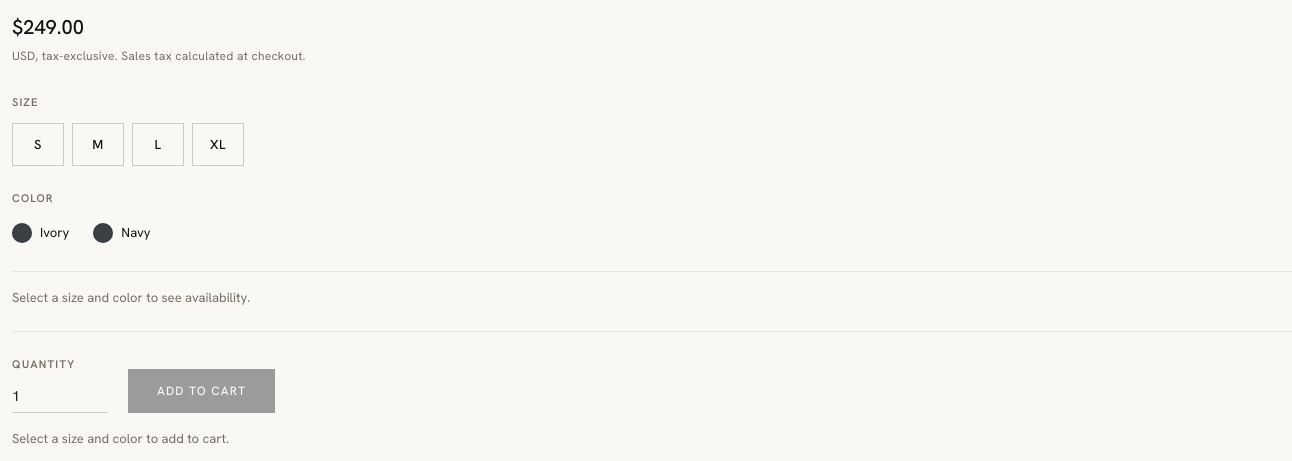
Test case: VariantSelector › uses the variant price override instead of the base price
The width and height of the screenshot is (1292, 461).
Step 1. Click the button "XL" → click(218, 144), box [192, 123, 244, 166]
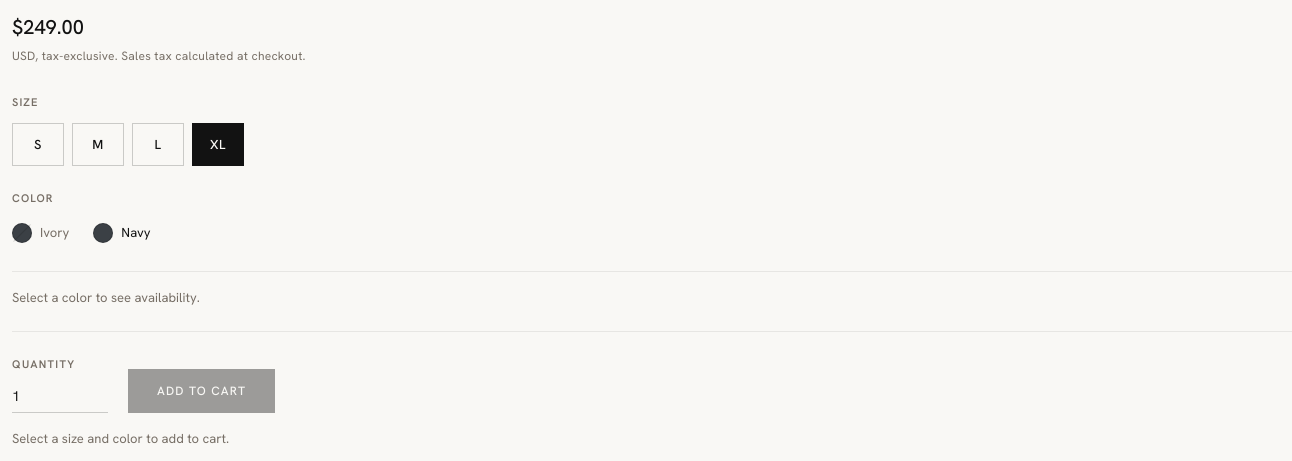
Step 2. Click the button "Navy" → click(122, 233), box [93, 219, 151, 247]
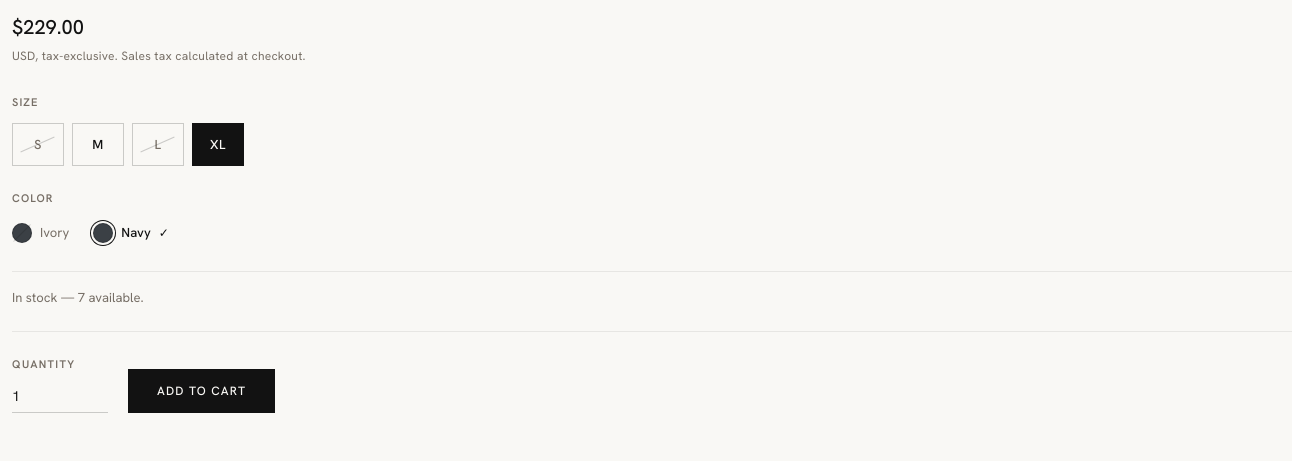
Result: the element with test id "product-price" shows "$229.00" at [12, 14, 84, 40]
Result: the element with test id "product-price" no longer shows "$249.00"
Result: the text with test id "variant-stock-message" reads "In stock — 7 available." at [12, 289, 144, 306]
